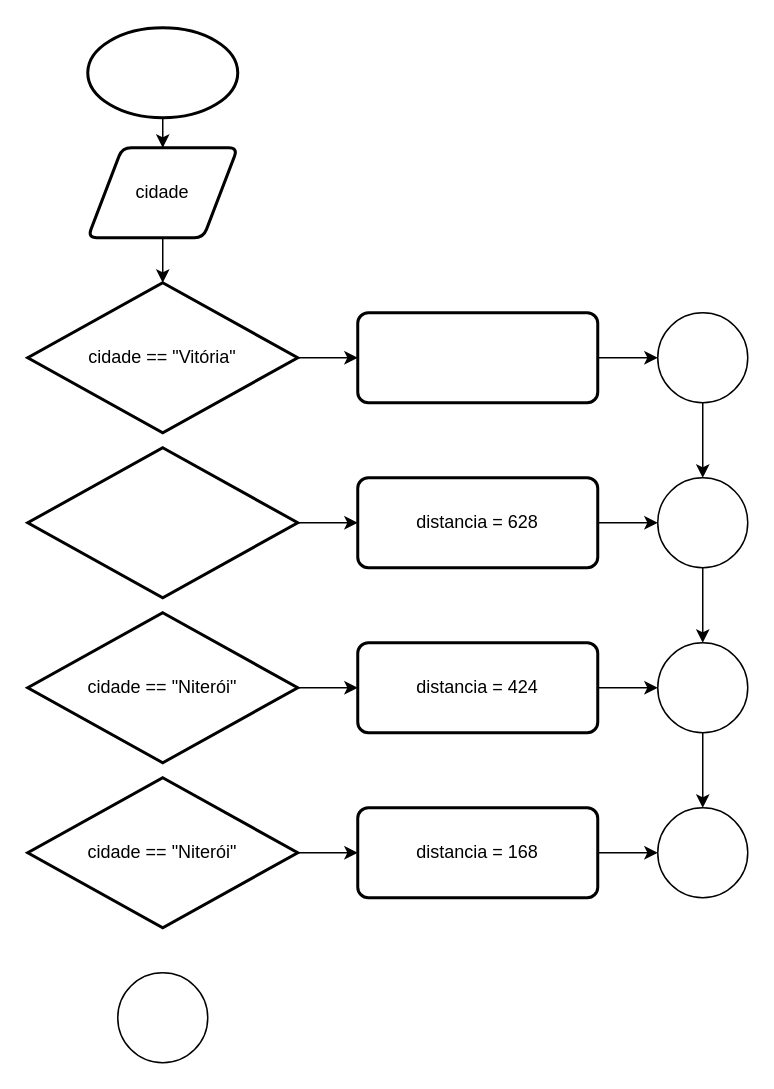
The diagram is 774 pixels wide and 1089 high, and some of its shapes have lost their labels. Here are the shapes that lost their labels. From the top down, the centre of each, then its label:
[162,72]: Início
[477,357]: distancia = 949
[162,522]: cidade == "Muriaé"
